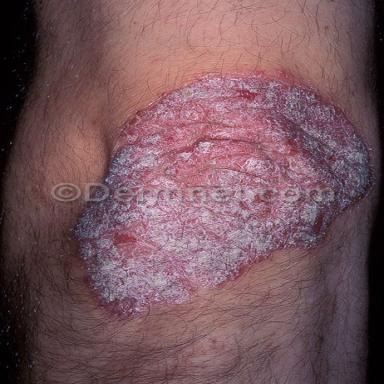Psoriasis: (73, 190, 365, 316), (105, 72, 372, 185)
